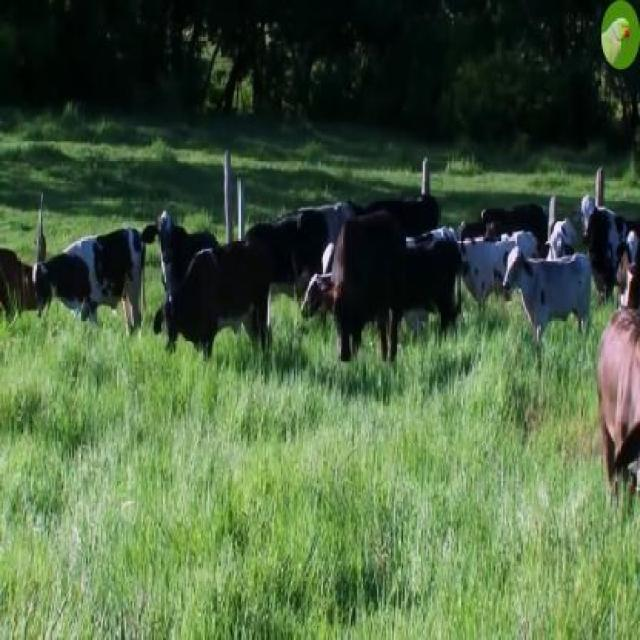Cow: (502, 243, 592, 371)
